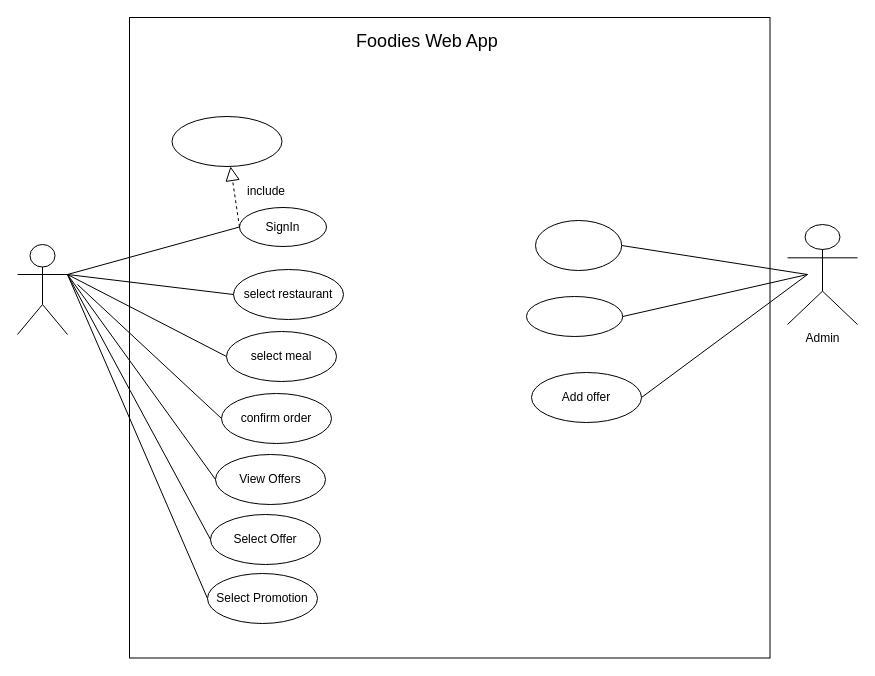
This 875x676 diagram has some shape labels left out. The centre of each missing label's shape, as x and y in pixels:
Add menu: [574,316]
Add restraunt: [578,245]
Register An Account: [226,141]
User: [42,289]
